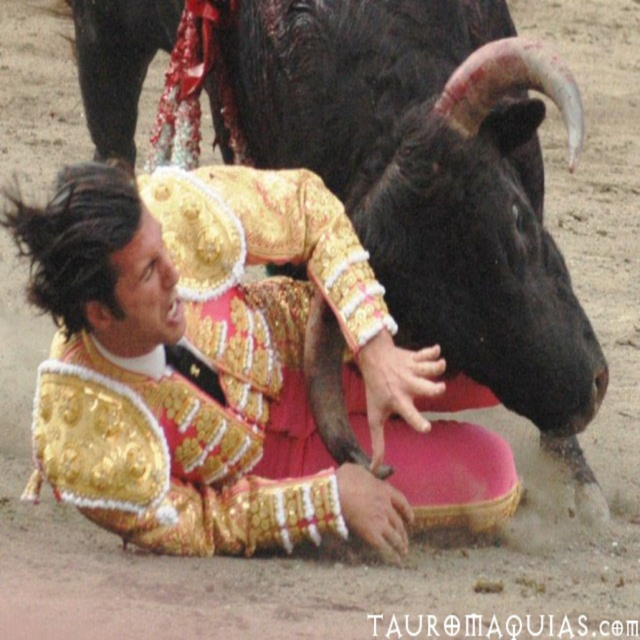Bull: (63, 0, 612, 522)
